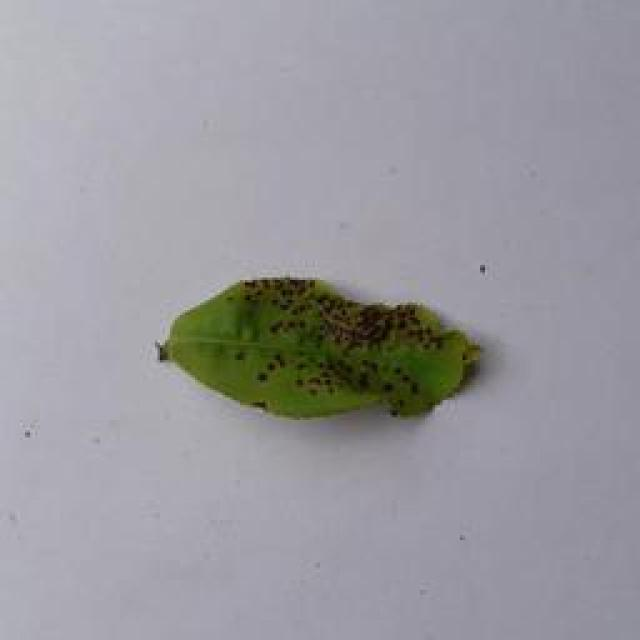Helopeltis: (145, 251, 496, 434)
